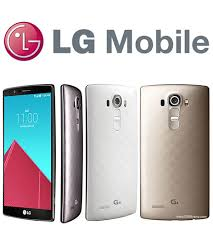lg: (138, 81, 210, 222), (84, 83, 141, 223), (1, 82, 57, 222)
